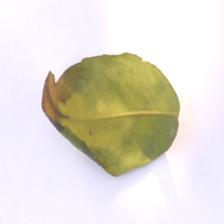black spot: (31, 41, 90, 154)
